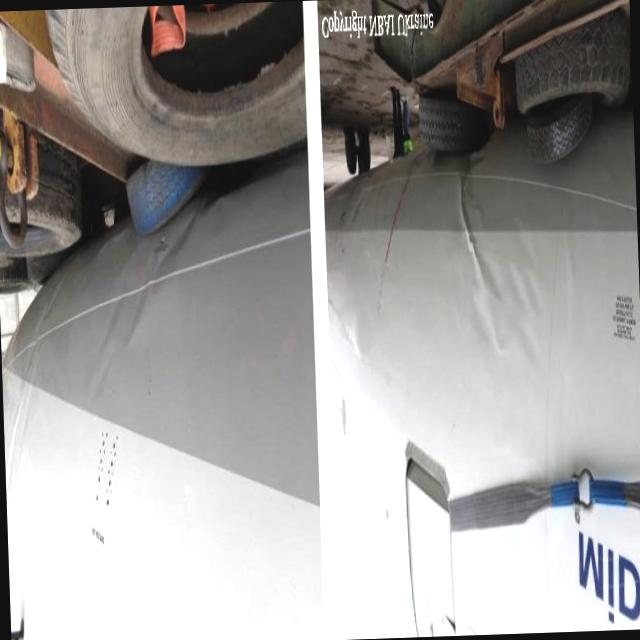dent: (78, 195, 206, 400), (450, 146, 541, 374)
